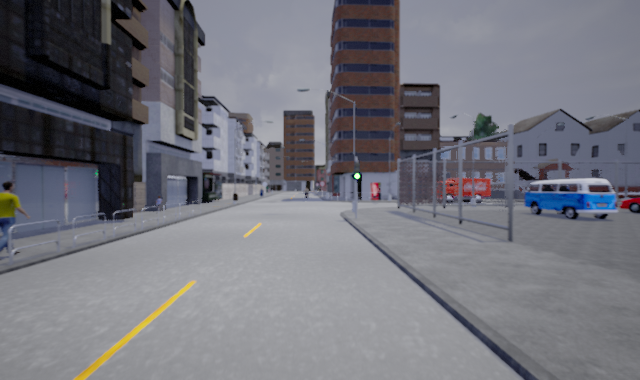pedestrian: (1, 180, 29, 261)
vehicle: (524, 179, 620, 221), (427, 177, 492, 203), (619, 194, 640, 213)
